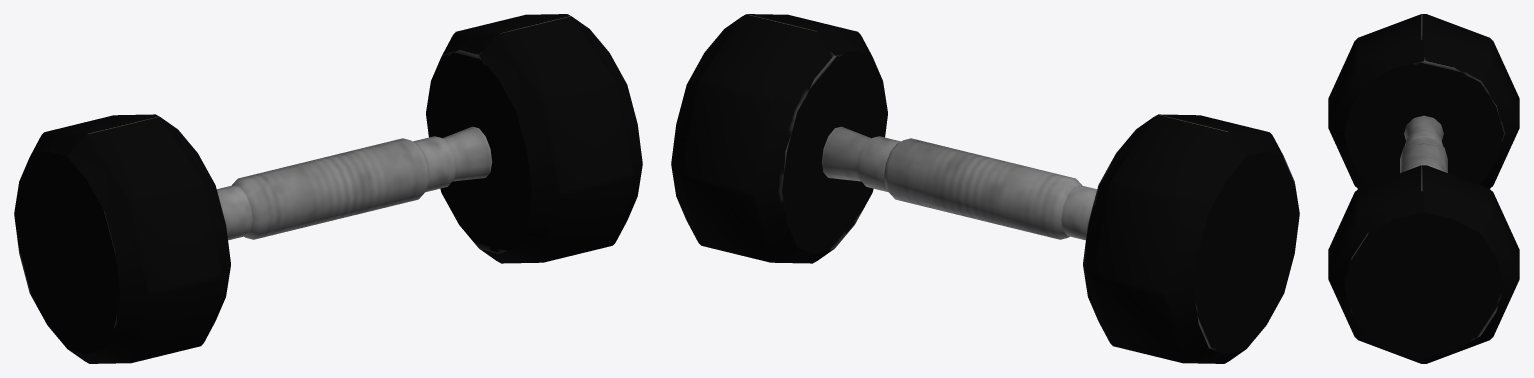
The picture shows the model from 3 angles, left to right: view 1: azimuth 30°, elevation 25°; view 2: azimuth 150°, elevation 25°; view 3: azimuth 270°, elevation 25°; orthographic projection. The views are drawn at different scales.
Visible parts, largest first — view 1: Dumbbell_Q, Dumbbell_Q.001_Dumbbell_Q.002; view 2: Dumbbell_Q, Dumbbell_Q.001_Dumbbell_Q.002; view 3: Dumbbell_Q, Dumbbell_Q.001_Dumbbell_Q.002.
Boxes of the visible parts, box(x1,y1,x2,y2) form: Dumbbell_Q: box(14, 14, 642, 363); Dumbbell_Q.001_Dumbbell_Q.002: box(217, 126, 492, 240); Dumbbell_Q: box(671, 14, 1299, 363); Dumbbell_Q.001_Dumbbell_Q.002: box(821, 126, 1096, 240); Dumbbell_Q: box(1328, 14, 1519, 363); Dumbbell_Q.001_Dumbbell_Q.002: box(1400, 115, 1447, 172).
Size of the model in its own units: 0.4666 by 0.1963 by 0.1963.
1 material, 1 textured.
